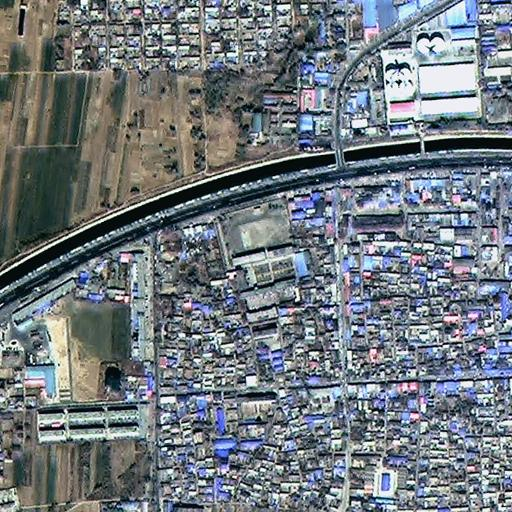school: (219, 200, 306, 280)
